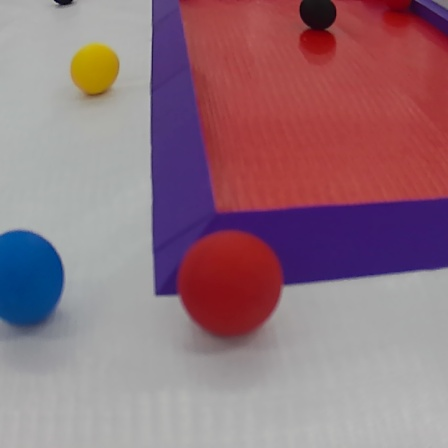black: (291, 0, 348, 34)
blue: (1, 228, 73, 335)
red: (177, 226, 287, 345)
red_aim: (139, 3, 448, 301)
yellow: (65, 45, 122, 99)
